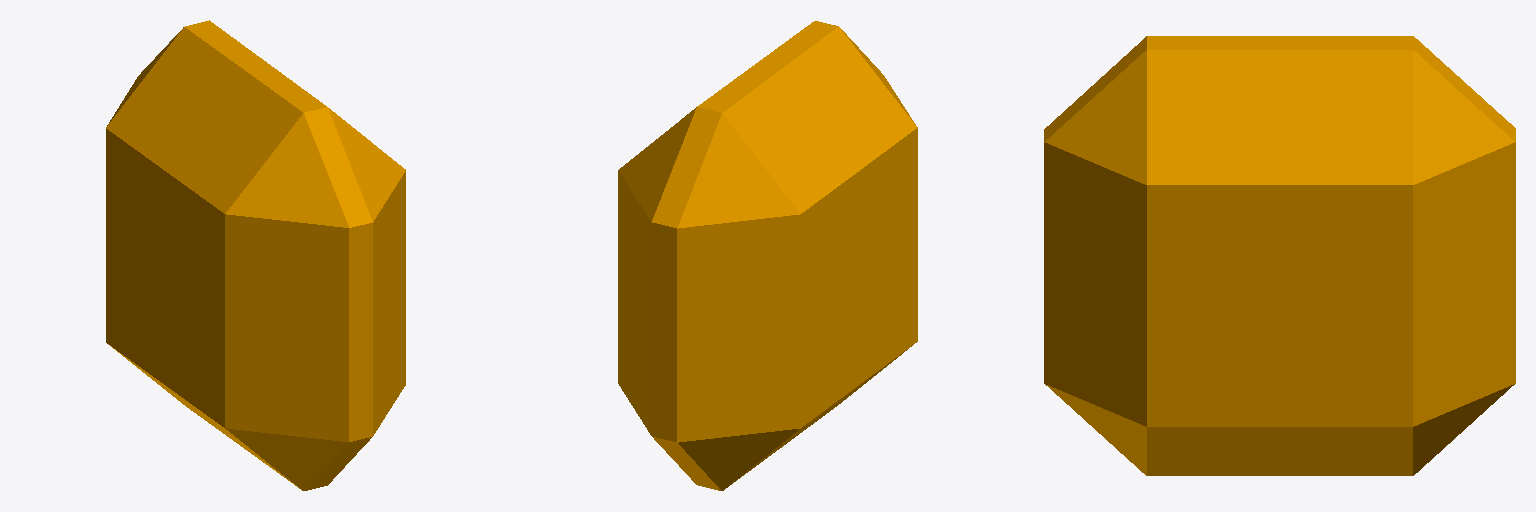
robot.urdf — ropiens:
<?xml version="1.0" ?>
<robot name="ropiens">
  <link name="baseLink">

    <visual>
      <origin rpy="0 0 0" xyz="0 0 0"/>
      <geometry>
				<mesh filename="ropiens.obj" scale="0.1 0.1 0.1"/>      
      </geometry>
    </visual>
    <collision>
      <origin rpy="0 0 0" xyz="0 0 0"/>
      <geometry>
	 <box size="0.5 0.5 0.5"/>
      </geometry>
    </collision>
  </link>
</robot>

--- What the picture shows (computed from the rendered views, not written in the file) ---
The picture shows the robot from 3 angles, left to right: view 1: azimuth 30°, elevation 25°; view 2: azimuth 150°, elevation 25°; view 3: azimuth 270°, elevation 25°; orthographic projection.
Model ropiens with 1 links and 0 joints (none), rooted at baseLink, posed all joints at 0.
Links seen in each view (by area): view 1: baseLink; view 2: baseLink; view 3: baseLink.
Boxes of the visible links, x1,y1,x2,y2 form: baseLink: [106, 20, 405, 490]; baseLink: [618, 21, 917, 490]; baseLink: [1044, 36, 1515, 475].
Size in the robot's own frame: 0.1008 by 0.2 by 0.2 metres.
1 mesh visuals loaded from 1 distinct referenced files (1 OBJ).